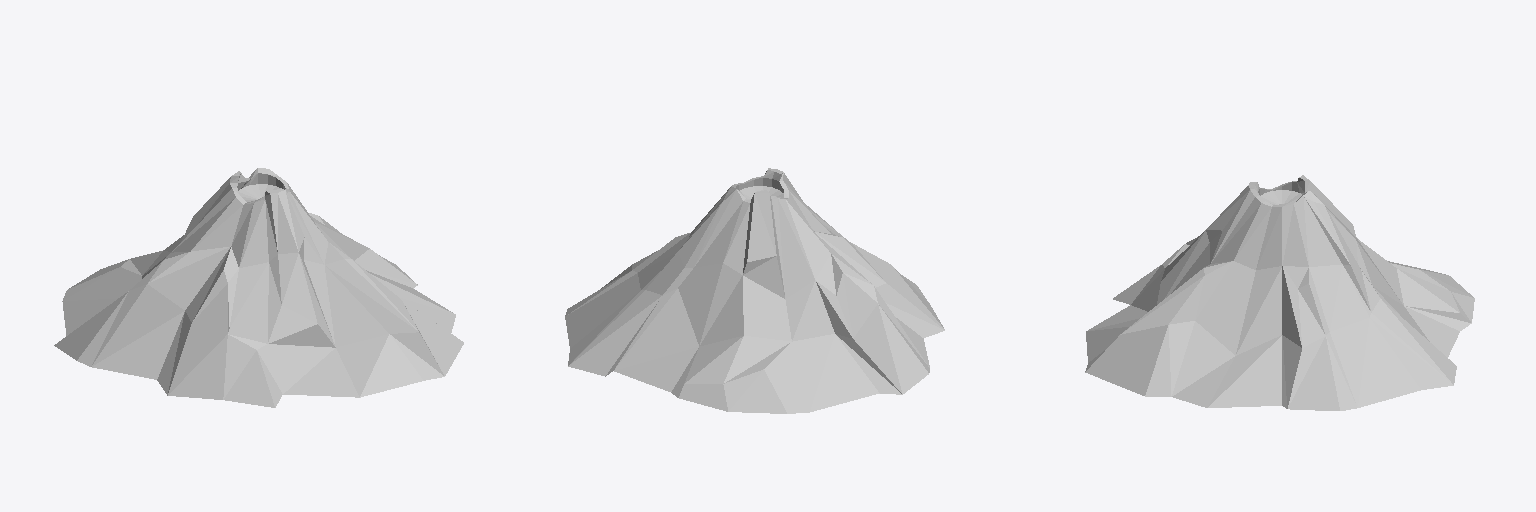
File: Volcano.obj
3 views of the same model, side by side, from view 1: azimuth 30°, elevation 25°; view 2: azimuth 150°, elevation 25°; view 3: azimuth 270°, elevation 25° (orthographic).
Parts seen in each view (by area): view 1: pSphere1; view 2: pSphere1; view 3: pSphere1.
Part boxes in pixels (bbox=[...]): pSphere1: bbox=[54, 168, 463, 407]; pSphere1: bbox=[565, 168, 944, 413]; pSphere1: bbox=[1085, 175, 1474, 410].
Size of the model in its own units: 2.11 by 0.8864 by 2.09.